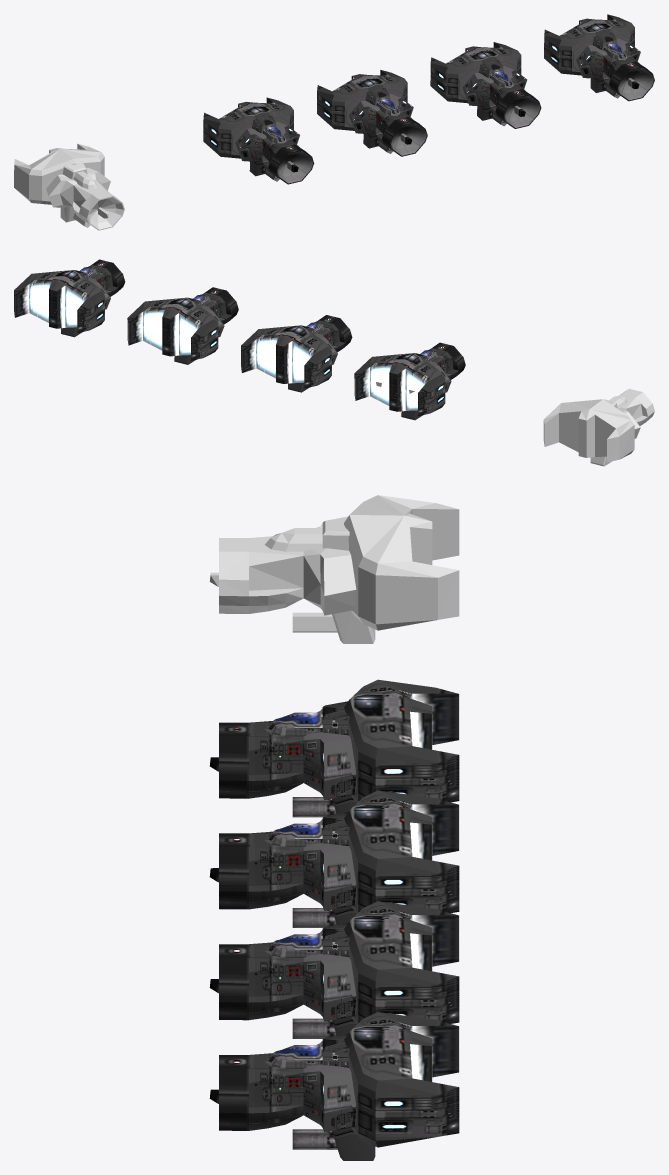
The model's file is hgn_smt_scout.dae.
3 renders of one model, top to bottom at view 1: azimuth 30°, elevation 25°; view 2: azimuth 150°, elevation 25°; view 3: azimuth 270°, elevation 25°, orthographic. The views are drawn at different scales.
Parts seen in each view (by area): view 1: MULT[root_mesh]_LOD[2], COL[Root], MULT[root_mesh]_LOD[1], MULT[root_mesh]_LOD[3], MULT[root_mesh]_LOD[0]; view 2: COL[Root], MULT[root_mesh]_LOD[2], MULT[root_mesh]_LOD[3], MULT[root_mesh]_LOD[0], MULT[root_mesh]_LOD[1]; view 3: MULT[root_mesh]_LOD[3], COL[Root], MULT[root_mesh]_LOD[0], MULT[root_mesh]_LOD[2], MULT[root_mesh]_LOD[1].
Boxes of the visible parts, x1=… form: MULT[root_mesh]_LOD[2]: x1=430, y1=42, x2=541, y2=128; COL[Root]: x1=14, y1=143, x2=124, y2=230; MULT[root_mesh]_LOD[1]: x1=317, y1=70, x2=427, y2=156; MULT[root_mesh]_LOD[3]: x1=544, y1=14, x2=654, y2=101; MULT[root_mesh]_LOD[0]: x1=203, y1=97, x2=314, y2=184; COL[Root]: x1=543, y1=388, x2=654, y2=466; MULT[root_mesh]_LOD[2]: x1=127, y1=287, x2=238, y2=364; MULT[root_mesh]_LOD[3]: x1=14, y1=259, x2=125, y2=337; MULT[root_mesh]_LOD[0]: x1=354, y1=342, x2=465, y2=420; MULT[root_mesh]_LOD[1]: x1=241, y1=315, x2=352, y2=392; MULT[root_mesh]_LOD[3]: x1=209, y1=1012, x2=459, y2=1160; COL[Root]: x1=209, y1=495, x2=459, y2=643; MULT[root_mesh]_LOD[0]: x1=210, y1=679, x2=459, y2=817; MULT[root_mesh]_LOD[2]: x1=209, y1=901, x2=459, y2=1038; MULT[root_mesh]_LOD[1]: x1=209, y1=790, x2=459, y2=927.
Size of the model in its own units: 89.71 by 8.68 by 16.01.
23 materials, 23 textured.
